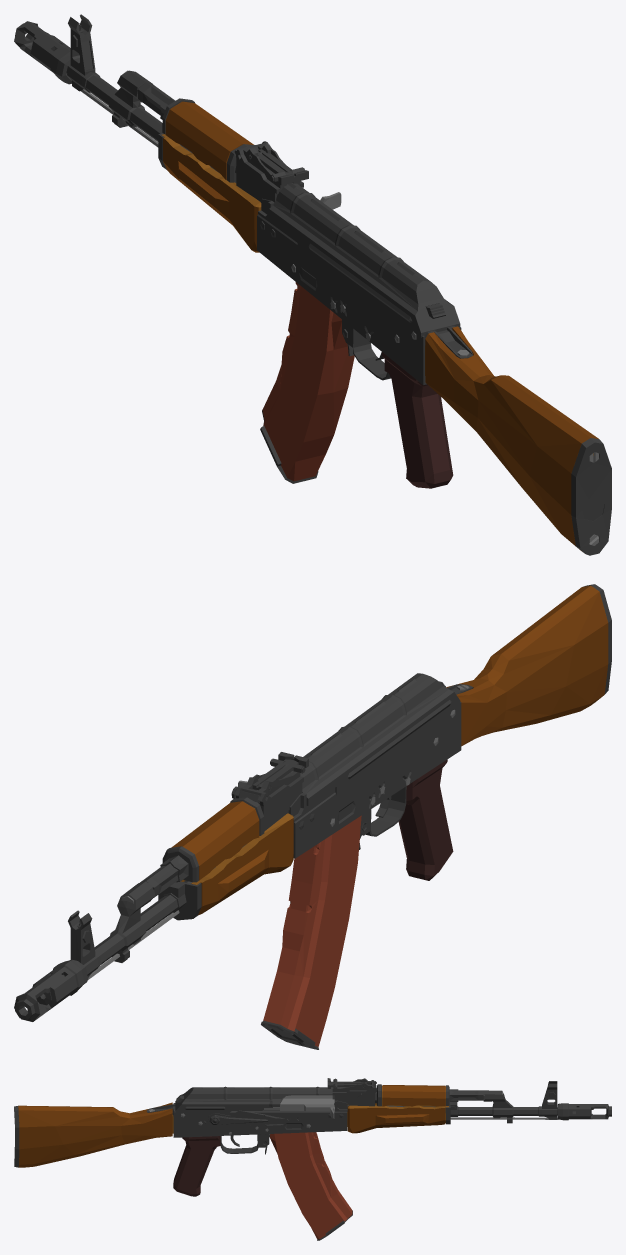
The picture shows the model from 3 angles, top to bottom: view 1: azimuth 30°, elevation 25°; view 2: azimuth 150°, elevation 25°; view 3: azimuth 270°, elevation 25°; orthographic projection. The views are drawn at different scales.
Parts seen in each view (by area): view 1: stock, receiver, magazine, dust_cover, grip, handguard_lower.001, handguard_upper.001, 6P20_muzzle_brake.001, gas_tube, rear_sight; view 2: receiver, stock, magazine, dust_cover, grip, handguard_lower.001, handguard_upper.001, 6P20_muzzle_brake.001, gas_tube, lower_handguard_cover, rear_sight; view 3: stock, receiver, magazine, dust_cover, handguard_lower.001, grip, handguard_upper.001, safety_selector, bolt_carrier, 6P20_muzzle_brake.001, gas_tube, cleaning_rod (+1 smaller).
Part boxes in pixels (bbox=[...]): stock: bbox=[425, 326, 611, 555]; receiver: bbox=[66, 14, 473, 385]; magazine: bbox=[260, 282, 354, 483]; dust_cover: bbox=[269, 183, 460, 337]; grip: bbox=[382, 352, 453, 488]; handguard_lower.001: bbox=[161, 134, 261, 252]; handguard_upper.001: bbox=[165, 101, 253, 179]; 6P20_muzzle_brake.001: bbox=[14, 21, 71, 84]; gas_tube: bbox=[138, 82, 254, 182]; rear_sight: bbox=[249, 149, 308, 185]; receiver: bbox=[64, 684, 473, 984]; stock: bbox=[446, 584, 611, 746]; magazine: bbox=[261, 815, 361, 1049]; dust_cover: bbox=[291, 673, 460, 805]; grip: bbox=[398, 759, 453, 880]; handguard_lower.001: bbox=[181, 813, 293, 915]; handguard_upper.001: bbox=[171, 801, 259, 880]; 6P20_muzzle_brake.001: bbox=[14, 959, 87, 1021]; gas_tube: bbox=[140, 797, 264, 897]; lower_handguard_cover: bbox=[158, 881, 201, 920]; rear_sight: bbox=[252, 752, 308, 790]; stock: bbox=[14, 1102, 173, 1167]; receiver: bbox=[146, 1078, 557, 1153]; magazine: bbox=[269, 1132, 352, 1240]; dust_cover: bbox=[175, 1086, 333, 1113]; handguard_lower.001: bbox=[347, 1103, 448, 1133]; grip: bbox=[173, 1136, 220, 1196]; handguard_upper.001: bbox=[382, 1085, 445, 1106]; safety_selector: bbox=[207, 1110, 284, 1126]; bolt_carrier: bbox=[273, 1091, 502, 1119]; 6P20_muzzle_brake.001: bbox=[557, 1103, 611, 1120]; gas_tube: bbox=[375, 1084, 483, 1106]; cleaning_rod: bbox=[450, 1117, 558, 1119].
Size of the model in its own units: 7.24 by 27.22 by 93.77.
